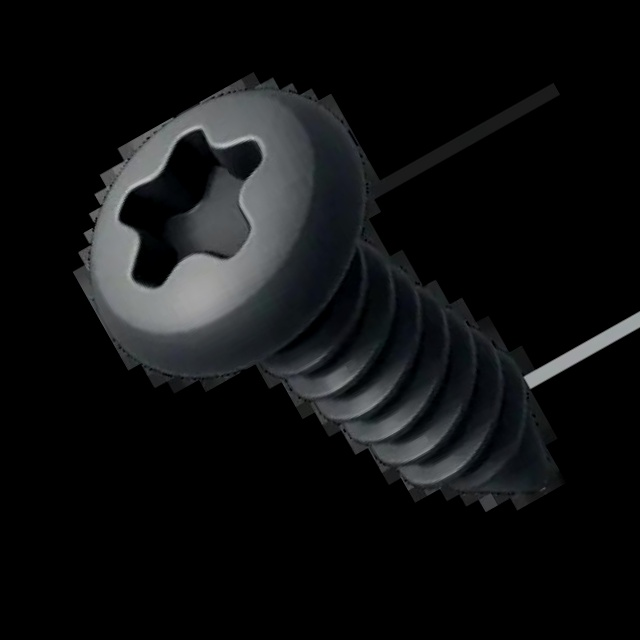torx: (27, 39, 431, 421)
